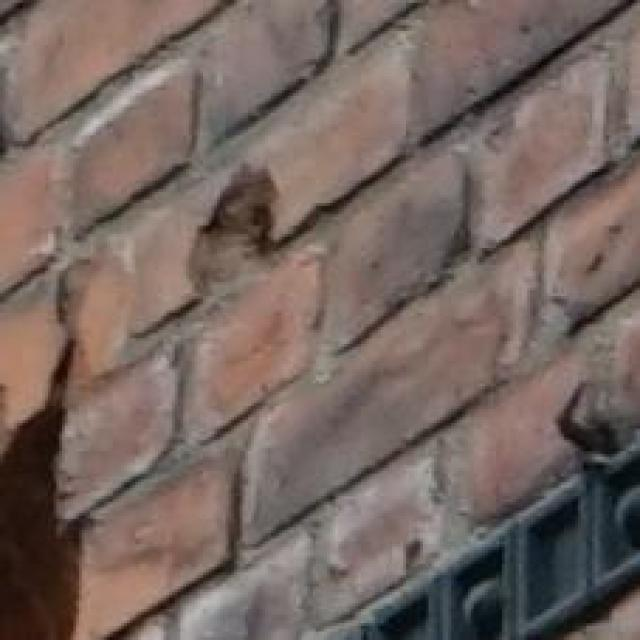Crack: (0, 177, 279, 640)
